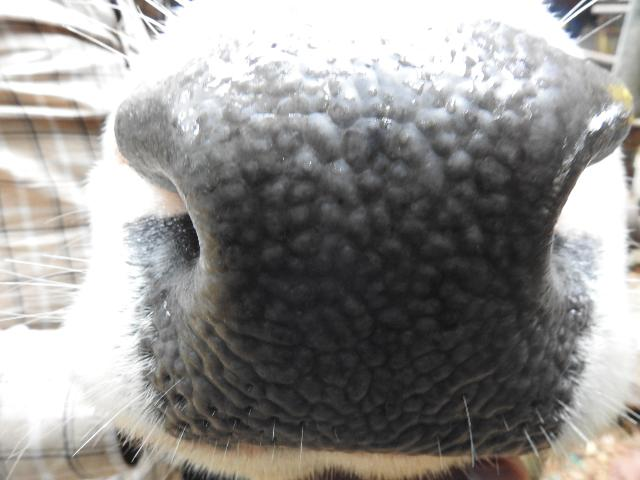Muzzle: (206, 76, 526, 431)
